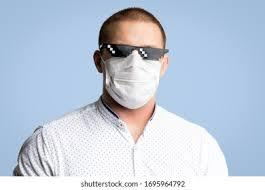mask: (99, 49, 165, 108)
sunglasses: (103, 40, 170, 65)
